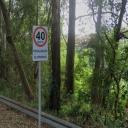speed_limit_40: (34, 26, 47, 46)
